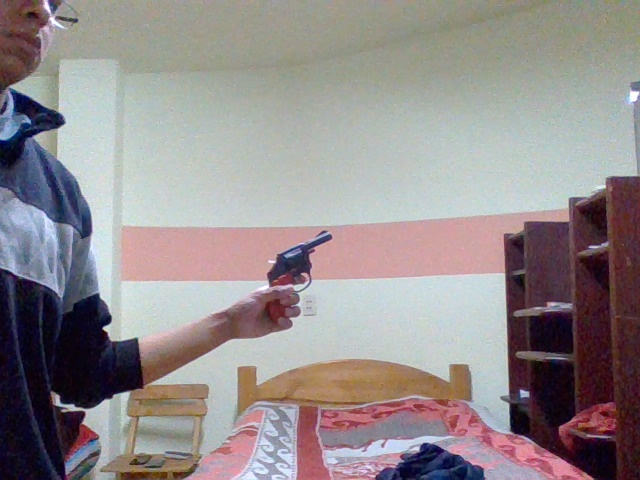pistola: (256, 215, 342, 330)
